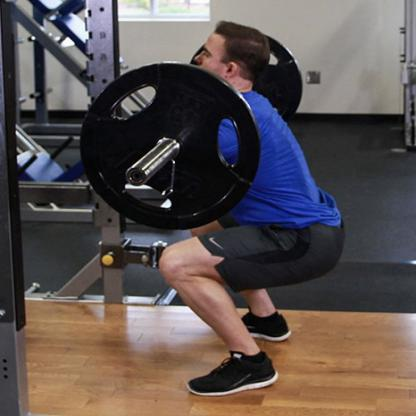Barbell: (73, 57, 266, 236)
